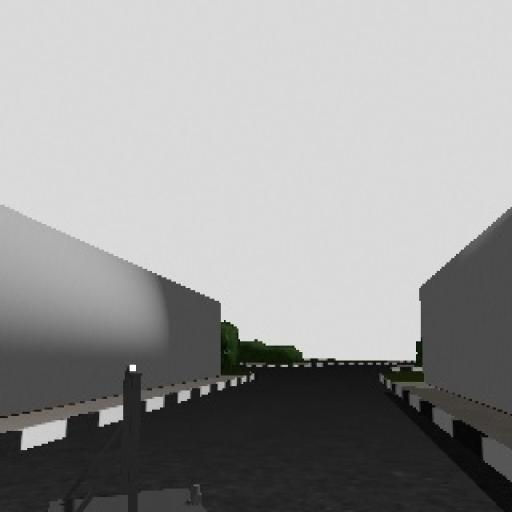huskya200: (43, 342, 214, 512)
